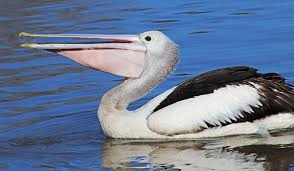pelican: (19, 31, 294, 140)
